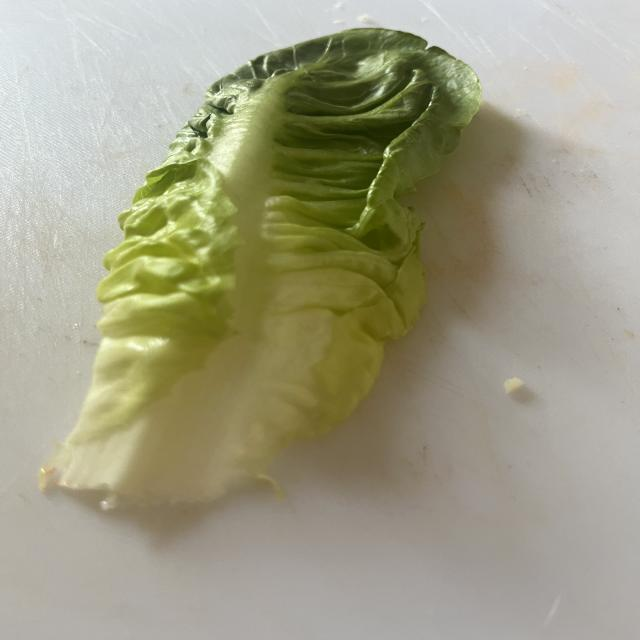lettuce: (40, 29, 480, 502)
